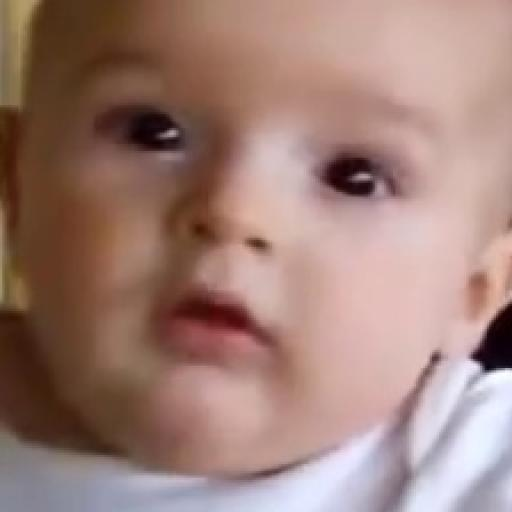Autism: (27, 4, 512, 486)
